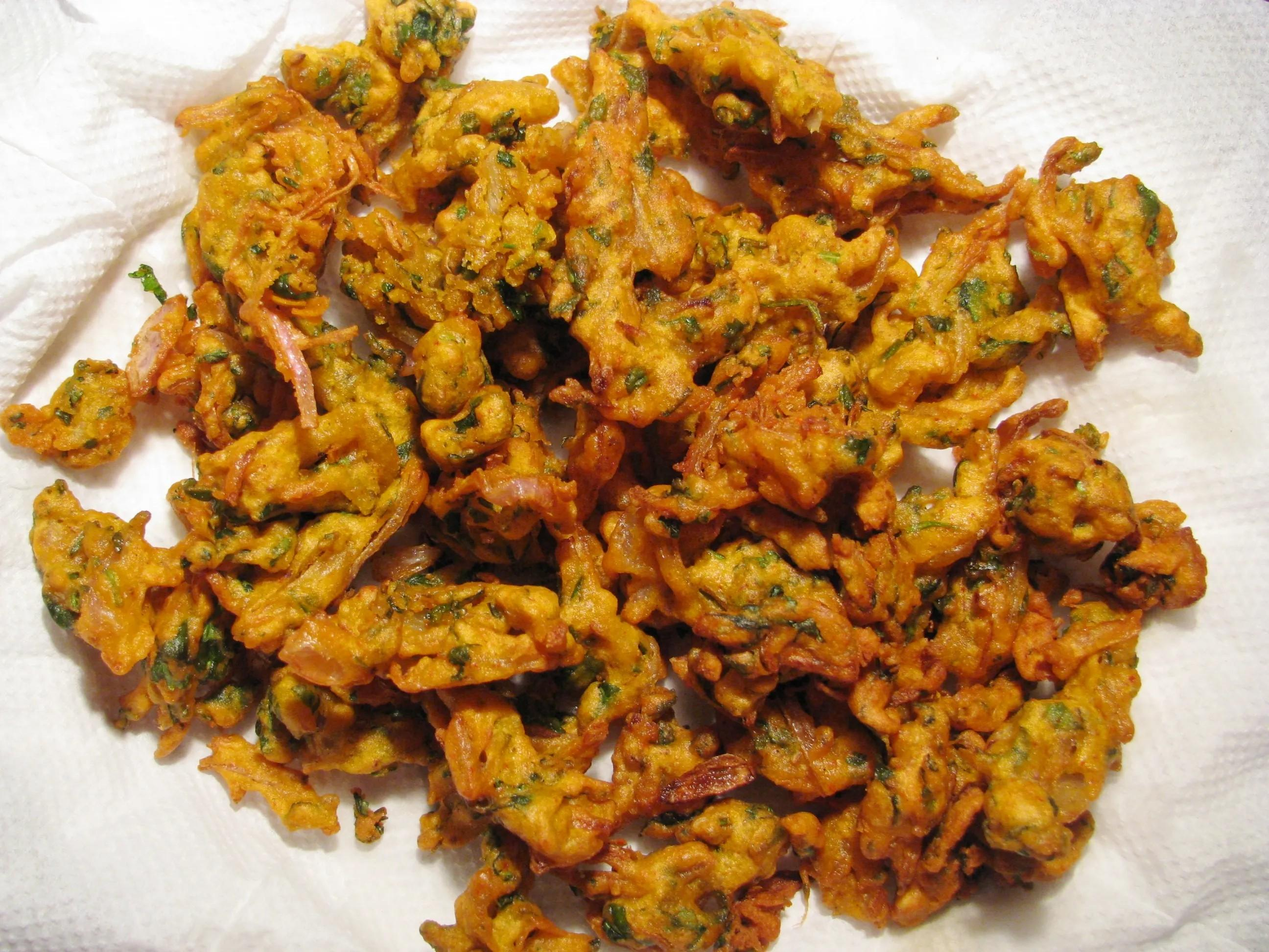OnionPakoda: (0, 0, 1207, 952)
